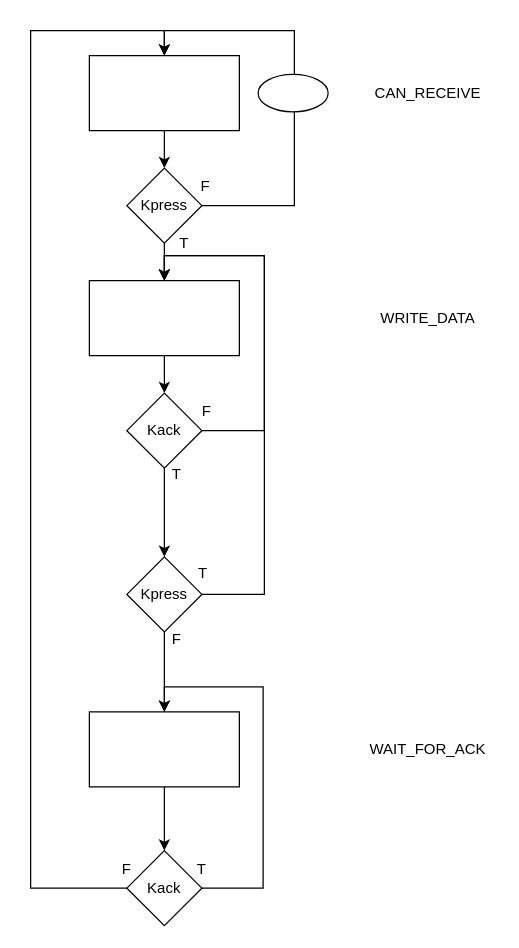
Image size: 519x948. Some labels were removed from this diagram. The box of each missing label's shape, as (x1, y1, x2, y2) in pixels:
Kscan: (257, 73, 328, 112)
Kval: (88, 279, 239, 356)
